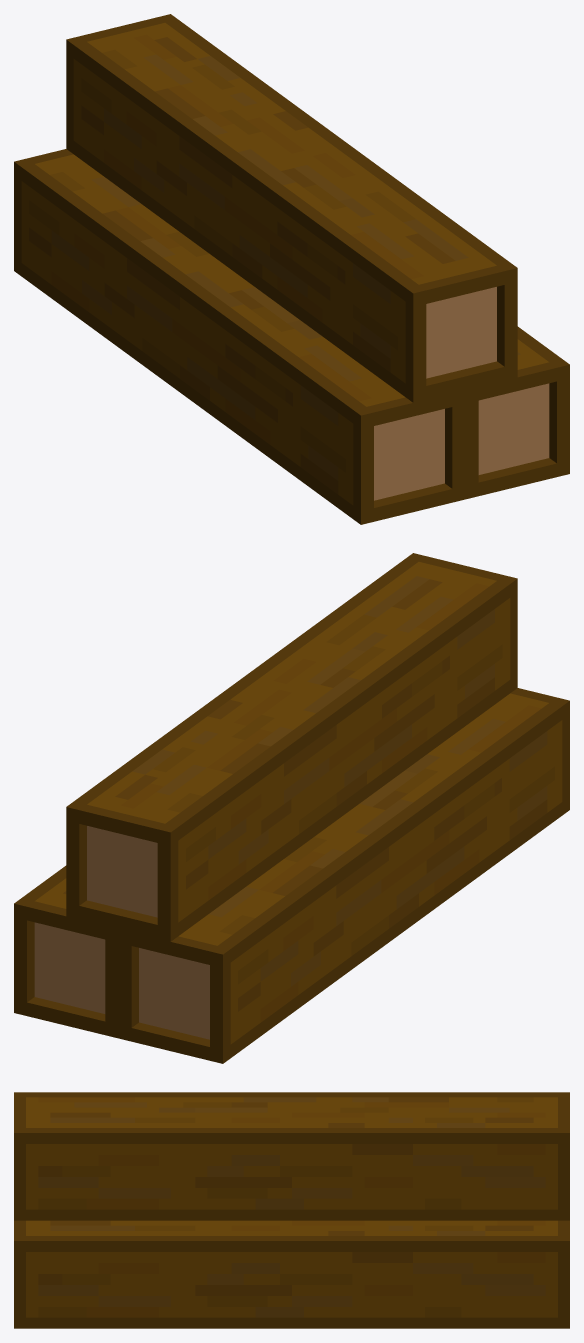
The model's file is Wood.fbx.
The picture shows the model from 3 angles, top to bottom: view 1: azimuth 30°, elevation 25°; view 2: azimuth 150°, elevation 25°; view 3: azimuth 270°, elevation 25°; orthographic projection. The views are drawn at different scales.
Visible parts, largest first — view 1: Wood; view 2: Wood; view 3: Wood.
Boxes of the visible parts, x1,y1,x2,y2 form: Wood: (14,14,569,524); Wood: (14,553,569,1063); Wood: (14,1092,569,1328).
Size of the model in its own units: 0.32 by 0.92 by 0.32.
Materials: 1 (1 with a texture image).
